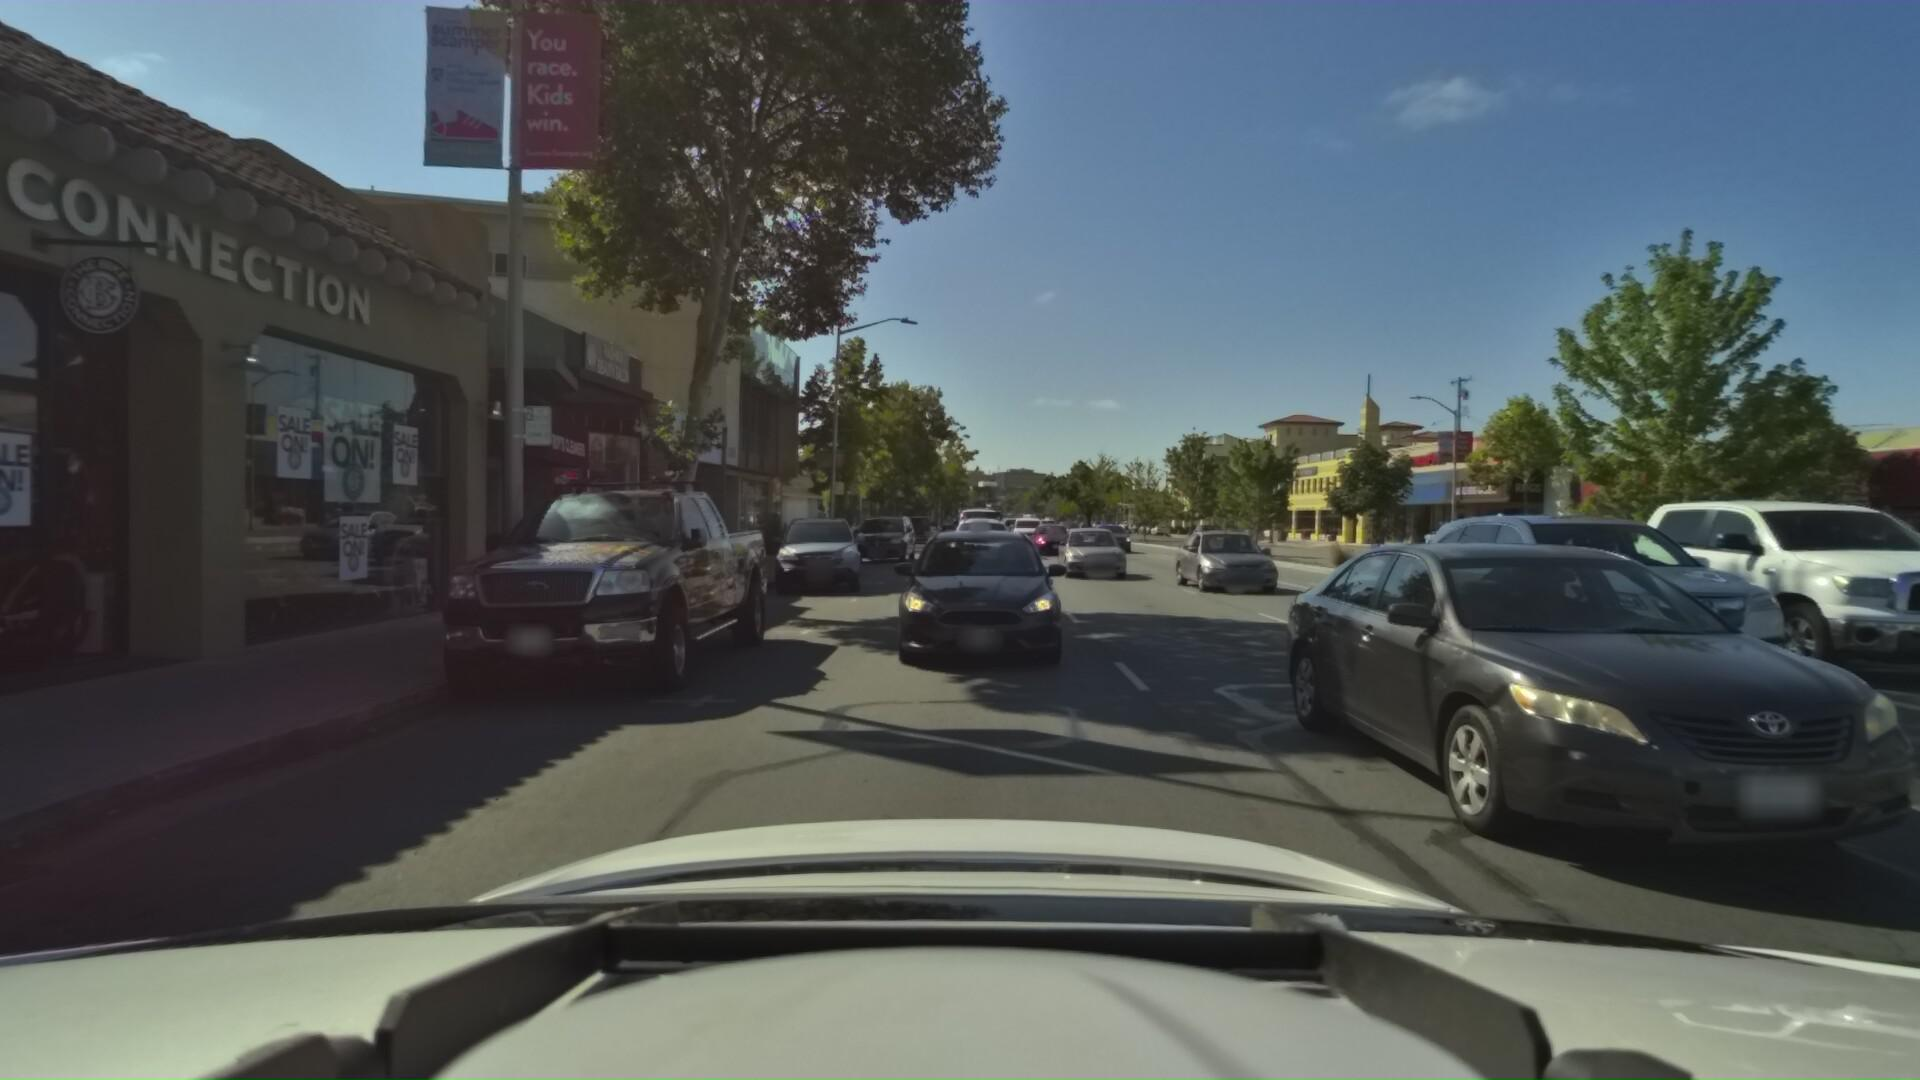car: (1233, 512, 1903, 868), (407, 458, 785, 723), (1522, 473, 1920, 686), (1387, 505, 1785, 698), (884, 522, 1069, 686), (1163, 524, 1275, 597), (773, 512, 862, 603), (943, 516, 1017, 582), (1051, 521, 1127, 579), (845, 514, 916, 566), (953, 497, 1011, 556), (1022, 522, 1073, 560), (1089, 520, 1139, 555), (898, 513, 936, 545), (1007, 512, 1040, 542)
